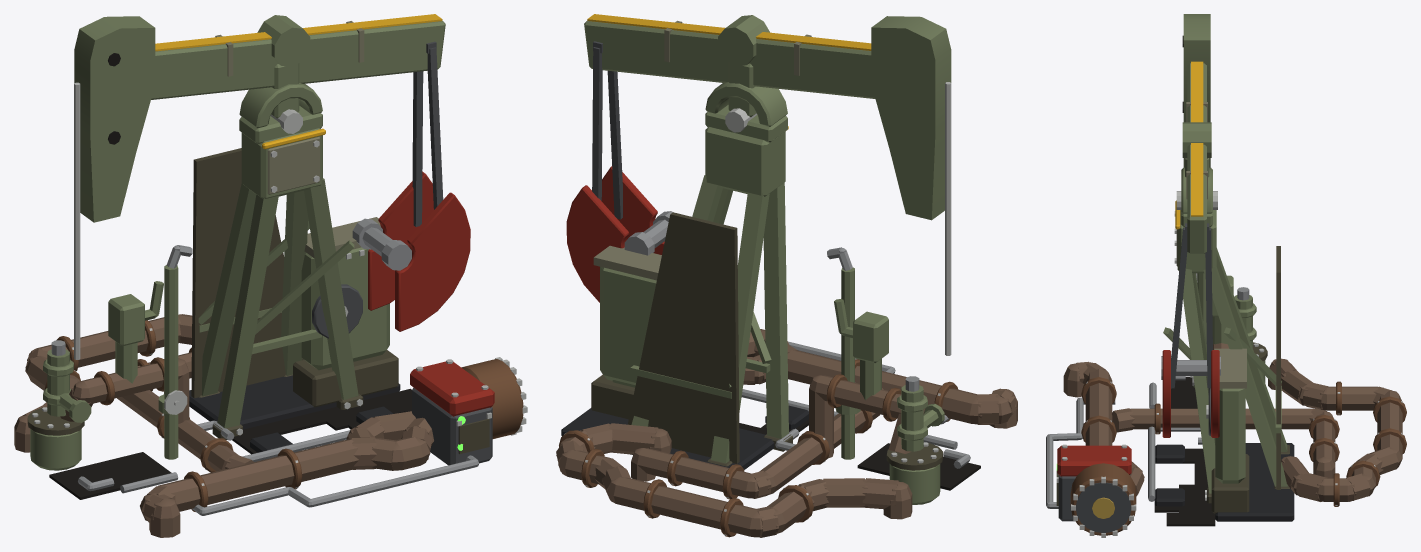
File: pumpjack-east.glb
The picture shows the model from 3 angles, left to right: view 1: azimuth 30°, elevation 25°; view 2: azimuth 150°, elevation 25°; view 3: azimuth 270°, elevation 25°; orthographic projection. The views are drawn at different scales.
Parts seen in each view (by area): view 1: anim_upright_still, body, anim_upright_rock_beam, anim_upright_spin_crank; view 2: anim_upright_still, anim_upright_rock_beam, body, anim_upright_spin_crank; view 3: anim_upright_still, body, anim_upright_rock_beam, anim_upright_spin_crank.
Boxes of the visible parts, box(x1,y1,x2,y2) form: anim_upright_still: box(27, 41, 443, 499); body: box(14, 314, 527, 537); anim_upright_rock_beam: box(74, 14, 445, 222); anim_upright_spin_crank: box(352, 171, 470, 331); anim_upright_still: box(561, 41, 980, 504); anim_upright_rock_beam: box(584, 14, 951, 220); body: box(556, 329, 1017, 537); anim_upright_spin_crank: box(566, 166, 672, 302); anim_upright_still: box(1154, 167, 1294, 526); body: box(1046, 358, 1406, 537); anim_upright_rock_beam: box(1182, 14, 1211, 253); anim_upright_spin_crank: box(1161, 350, 1220, 437).
Bounding box in the file's own units: 3.15 × 3.45 × 2.97.
